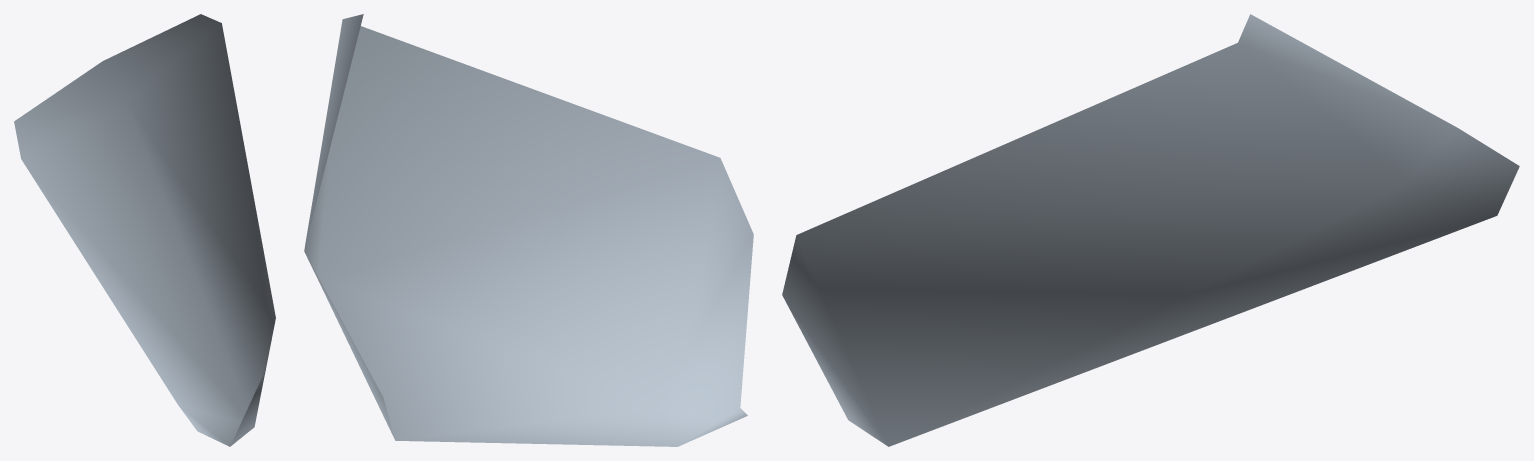
File: medial-talocalcaneal-ligament-r.glb
3 renders of one model, left to right at view 1: azimuth 30°, elevation 25°; view 2: azimuth 150°, elevation 25°; view 3: azimuth 270°, elevation 25°, orthographic. The views are drawn at different scales.
Parts seen in each view (by area): view 1: Medial talocalcaneal ligament.r; view 2: Medial talocalcaneal ligament.r; view 3: Medial talocalcaneal ligament.r.
Part boxes in pixels (left/top/right/bottom): Medial talocalcaneal ligament.r: left=14, top=14, right=275, bottom=446; Medial talocalcaneal ligament.r: left=304, top=14, right=753, bottom=446; Medial talocalcaneal ligament.r: left=782, top=14, right=1519, bottom=446.
Size of the model in its own units: 0.00471 by 0.0103 by 0.0143.
